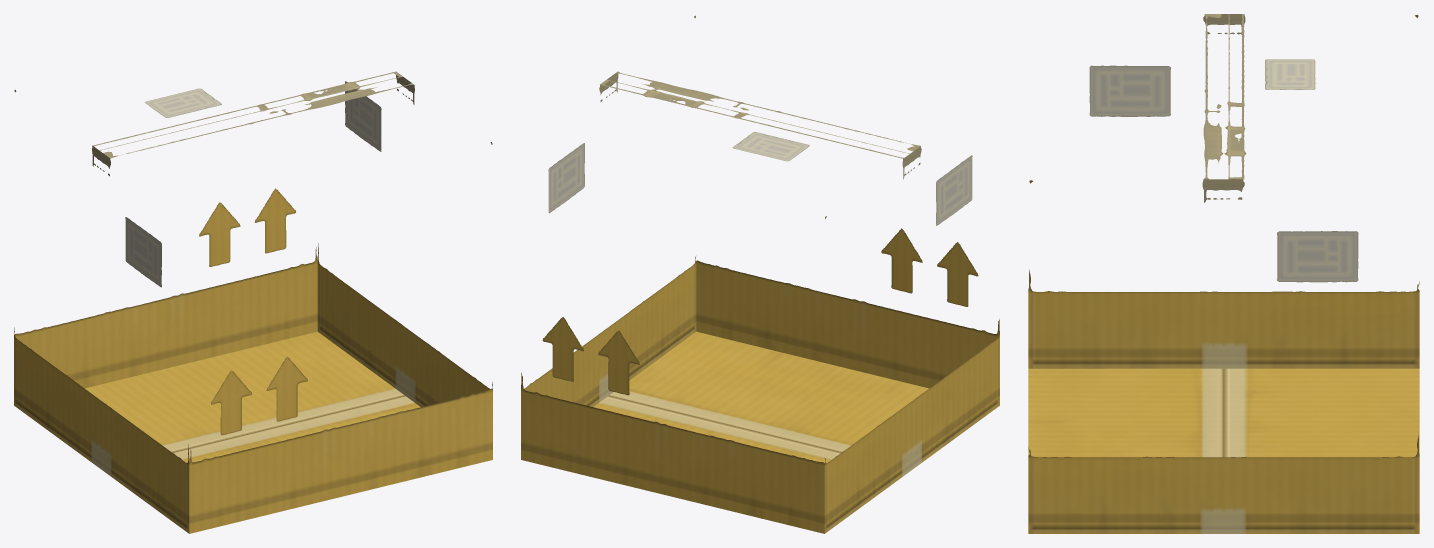
File: p_mesh_fruitbox.fbx
The picture shows the model from 3 angles, left to right: view 1: azimuth 30°, elevation 25°; view 2: azimuth 150°, elevation 25°; view 3: azimuth 270°, elevation 25°; orthographic projection. The views are drawn at different scales.
Parts seen in each view (by area): view 1: p_mesh_containers_fruitbox; view 2: p_mesh_containers_fruitbox; view 3: p_mesh_containers_fruitbox.
Boxes of the visible parts, left/top/right/bottom form: p_mesh_containers_fruitbox: left=14, top=71, right=492, bottom=533; p_mesh_containers_fruitbox: left=521, top=15, right=999, bottom=533; p_mesh_containers_fruitbox: left=1028, top=14, right=1419, bottom=533.
Size of the model in its own units: 4 by 4 by 4.
